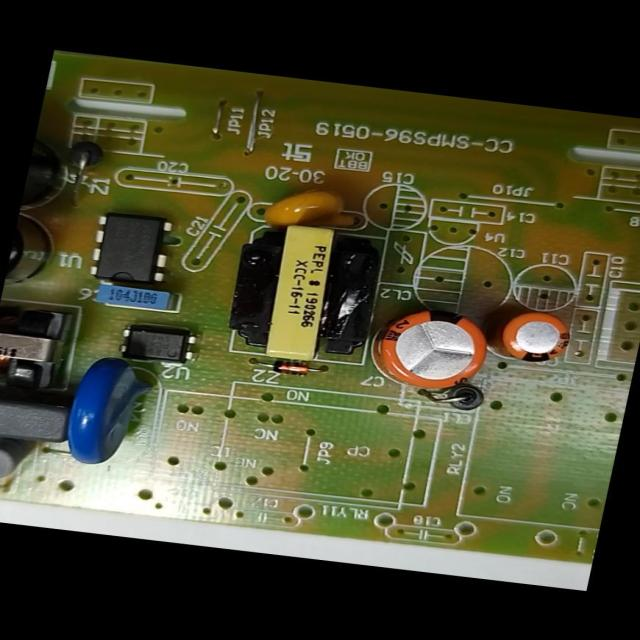Cap1: (364, 289, 502, 405)
Cap2: (468, 294, 586, 372)
Cap3: (0, 202, 72, 307)
Cap4: (17, 118, 104, 232)
MOSFET: (78, 200, 186, 300)
Mov: (47, 348, 170, 477)
Resistor: (0, 428, 53, 498)
Transformer: (218, 206, 403, 378), (0, 298, 89, 410)
